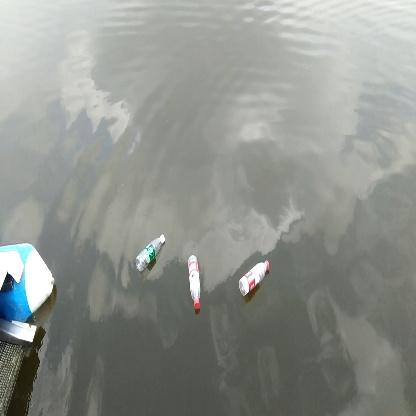bottle: (235, 257, 272, 298), (137, 234, 167, 273), (185, 253, 205, 310)
